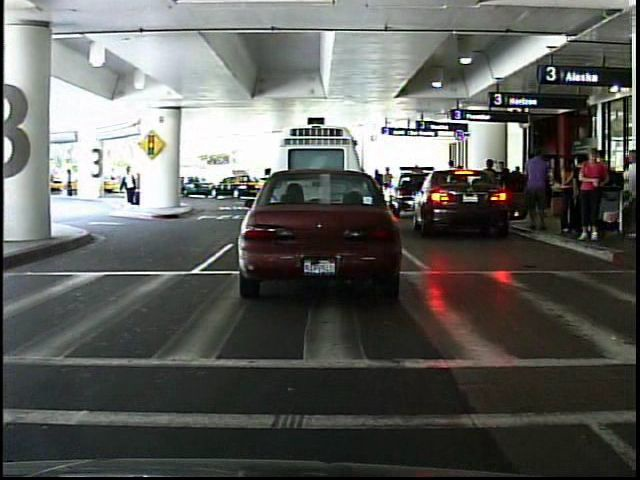person: (576, 144, 612, 247), (116, 160, 147, 211), (64, 163, 79, 202)
